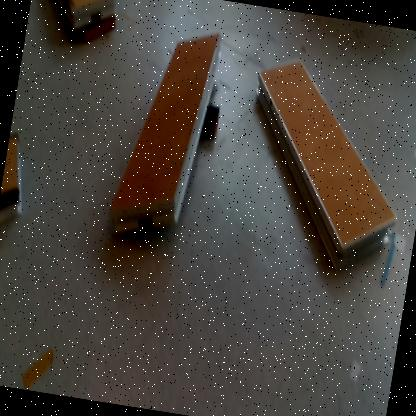Stairs: (256, 57, 398, 270), (109, 32, 221, 238), (1, 131, 21, 224), (56, 1, 117, 31)
